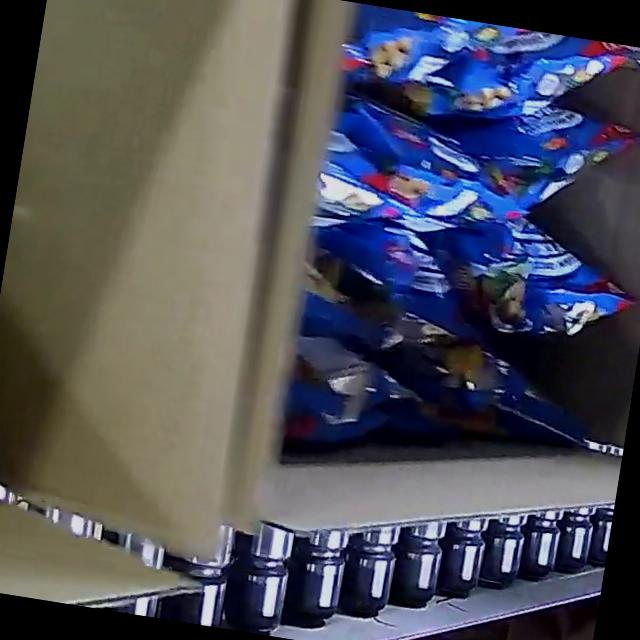paprika: (277, 0, 640, 489)
